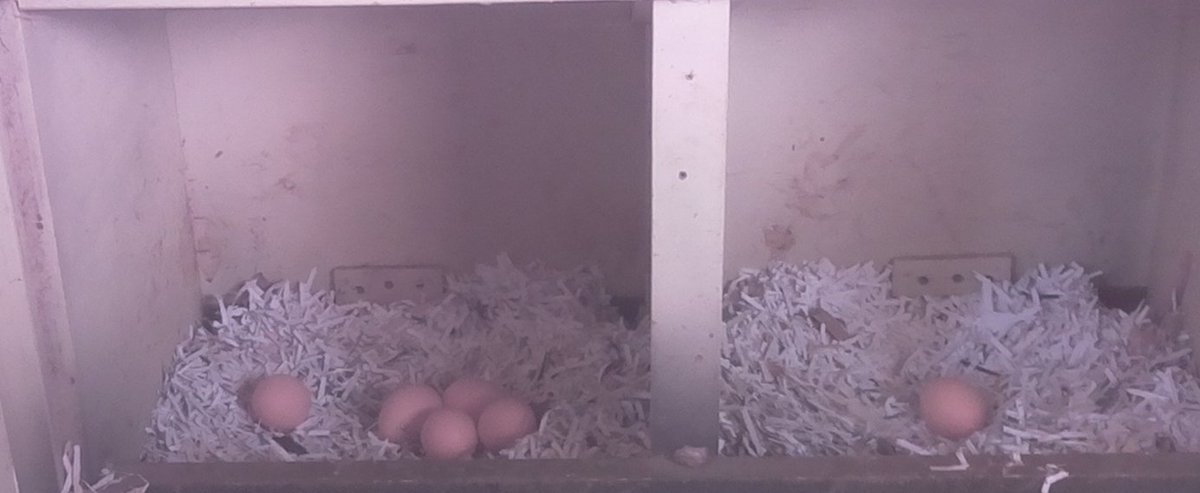egg: (912, 374, 993, 443), (469, 391, 546, 456), (376, 379, 443, 446), (247, 372, 315, 437), (413, 402, 484, 462), (437, 375, 506, 419)
